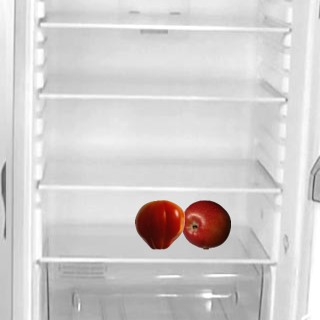Apple Braeburn: (180, 199, 230, 249)
Tomato 1: (134, 199, 184, 249)
